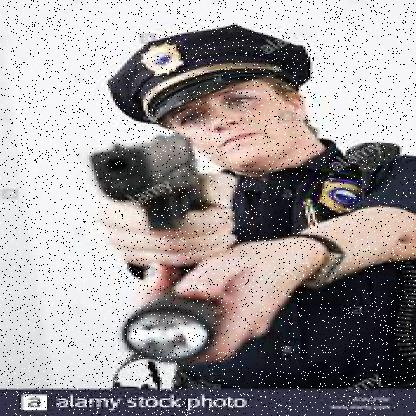pistol: (80, 128, 214, 239)
